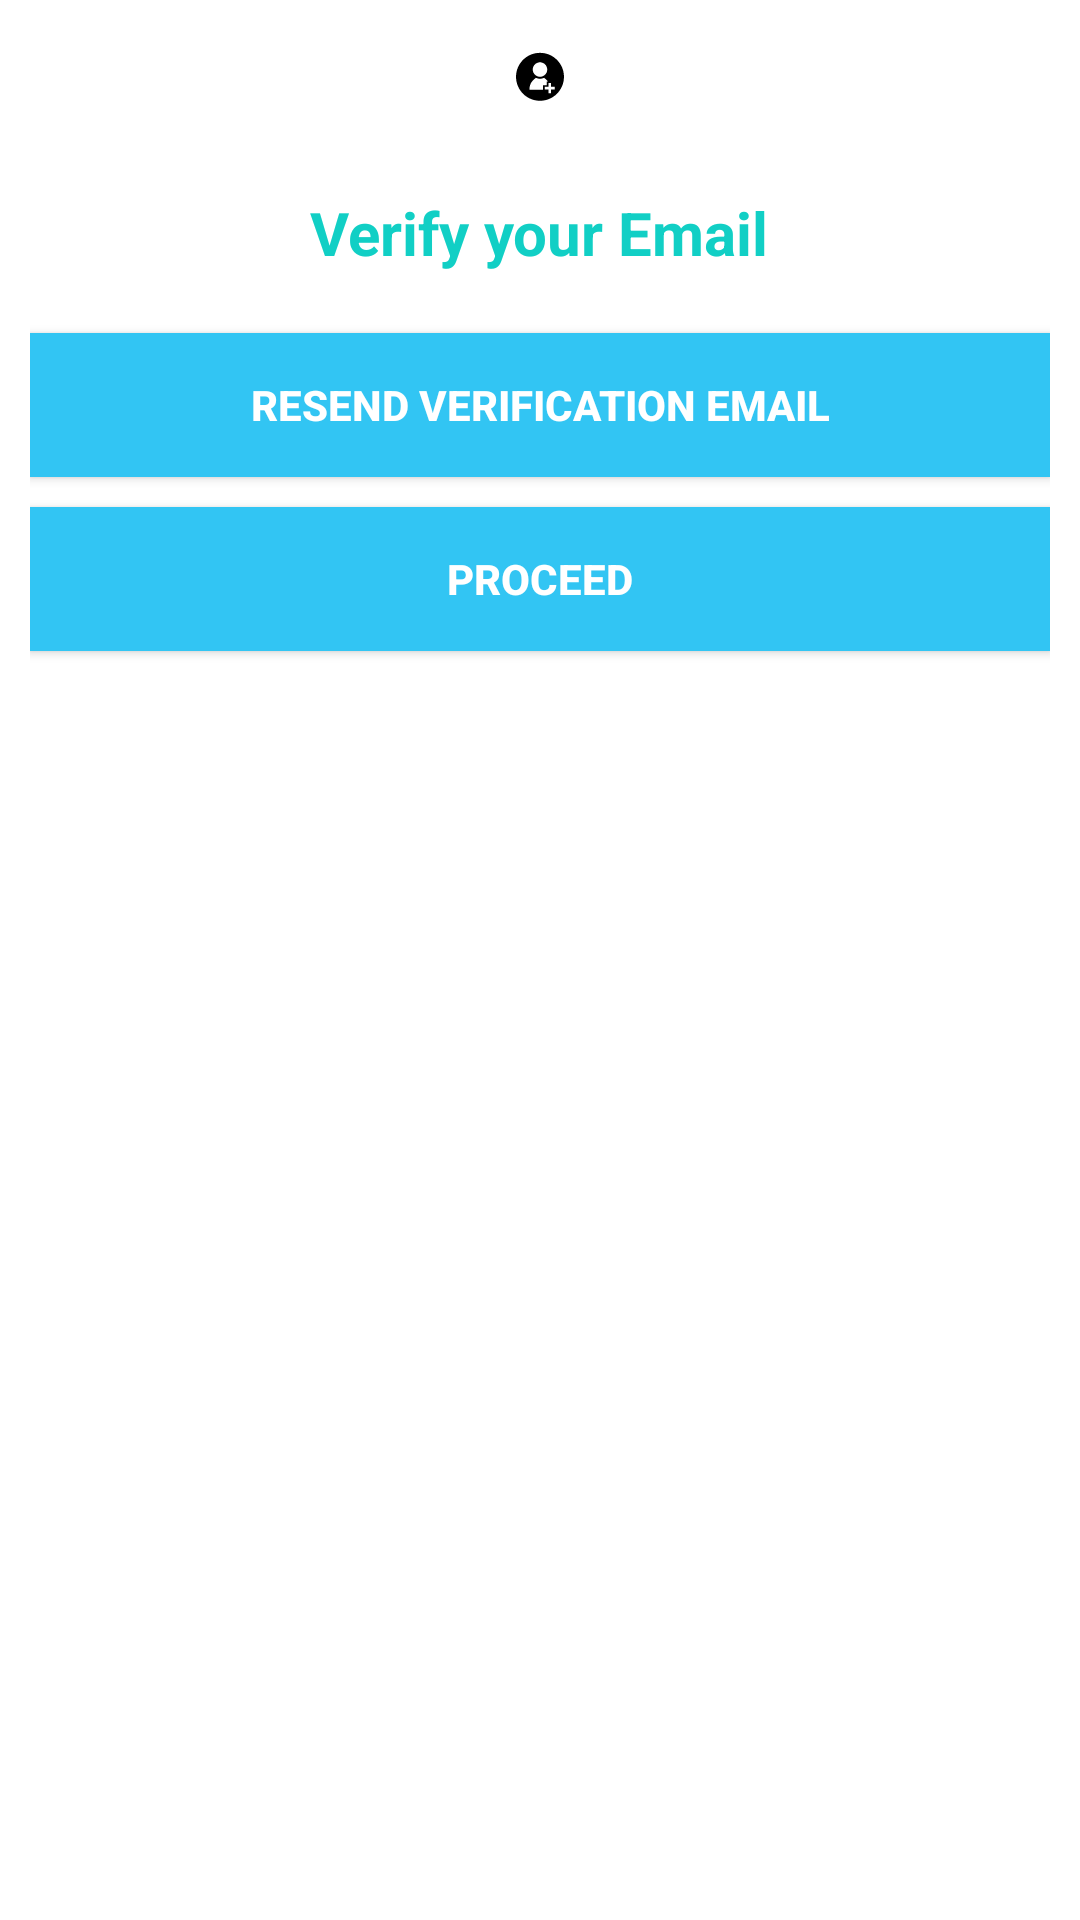

Icon click points for this 1080w x 1920h phone screenshot, format (x=x, y=y):
add users: (x=540, y=76)
